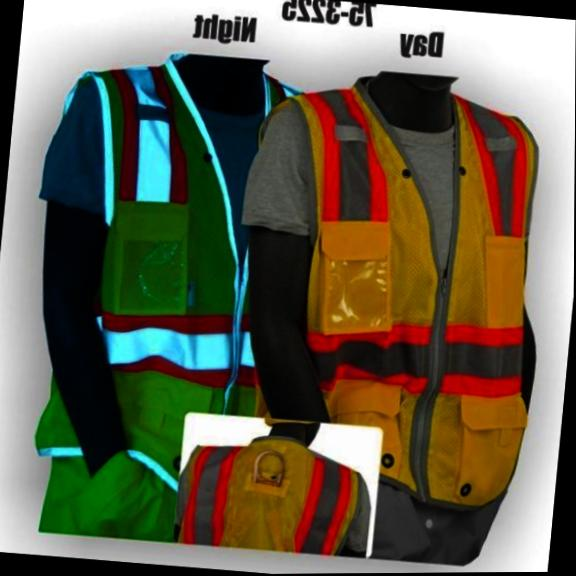safety_vest: (223, 71, 557, 521), (26, 50, 313, 486), (177, 429, 362, 560)
